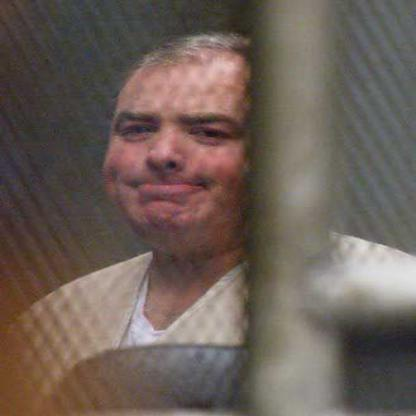face: (100, 34, 289, 243)
